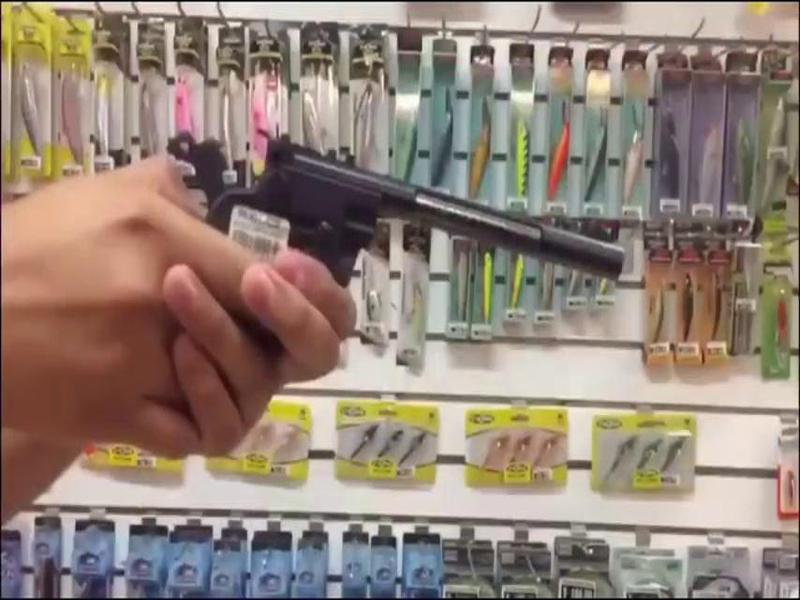Pistola: (163, 103, 670, 396)
